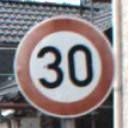speed_limit_30: (12, 16, 117, 120)
